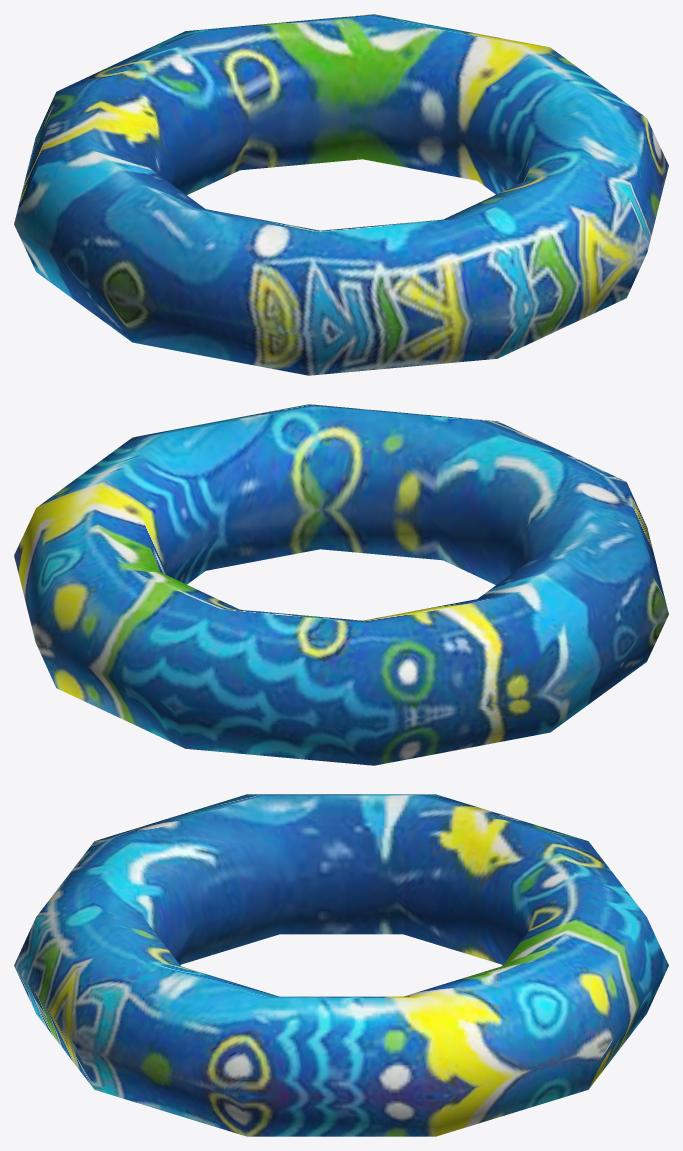
File: furni_0201007.FBX
3 views of the same model, one above another, from view 1: azimuth 30°, elevation 25°; view 2: azimuth 150°, elevation 25°; view 3: azimuth 270°, elevation 25° (orthographic). The views are drawn at different scales.
Visible parts, largest first — view 1: furni_0201007; view 2: furni_0201007; view 3: furni_0201007.
Boxes of the visible parts, bbox=[...] form: furni_0201007: bbox=[14, 14, 668, 375]; furni_0201007: bbox=[14, 404, 668, 765]; furni_0201007: bbox=[14, 794, 668, 1136].
Size of the model in its own units: 103 by 24.94 by 108.
1 material, 1 textured.
